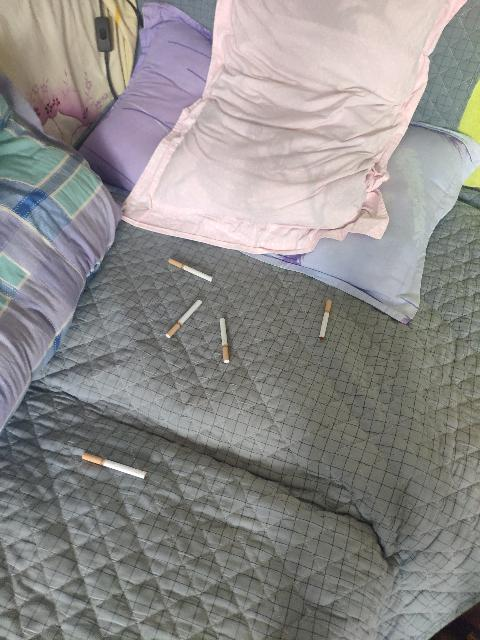Cigarette: (82, 452, 148, 480), (166, 300, 202, 338), (168, 260, 214, 282), (318, 301, 332, 341), (220, 318, 230, 364)
